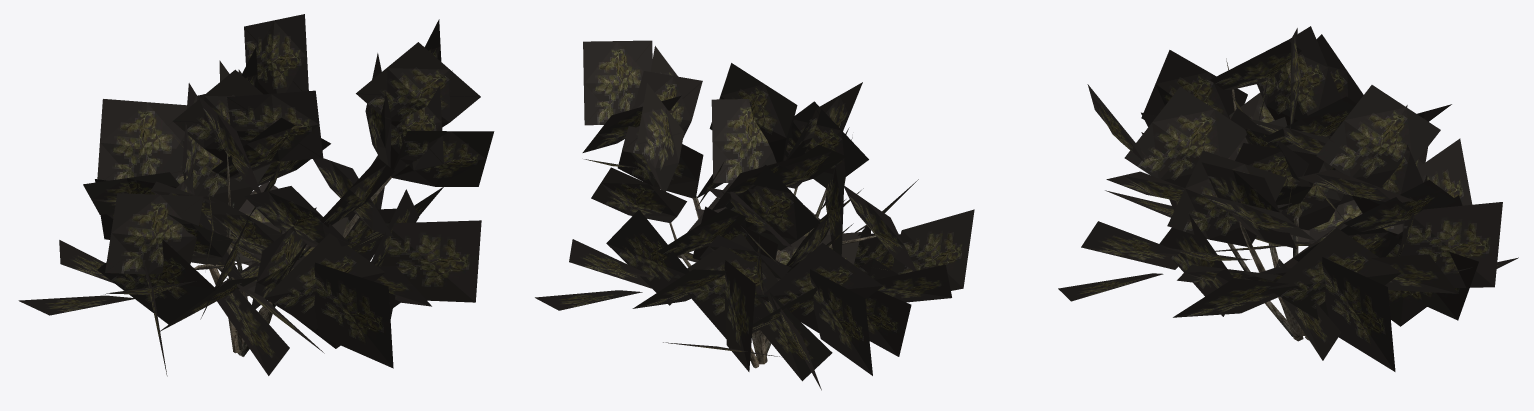
Rendered from 1_BUSH_01_1-transformed.glb.
3 renders of one model, left to right at view 1: azimuth 30°, elevation 25°; view 2: azimuth 150°, elevation 25°; view 3: azimuth 270°, elevation 25°, orthographic. The views are drawn at different scales.
Visible parts, largest first — view 1: default; view 2: default; view 3: default.
Boxes of the visible parts, x1,y1,x2,y2 form: default: (18,14,494,376); default: (535,40,974,390); default: (1058,26,1518,371).
Bounding box in the file's own units: 7.31 × 4.67 × 6.51.
2 materials, 2 textured.
